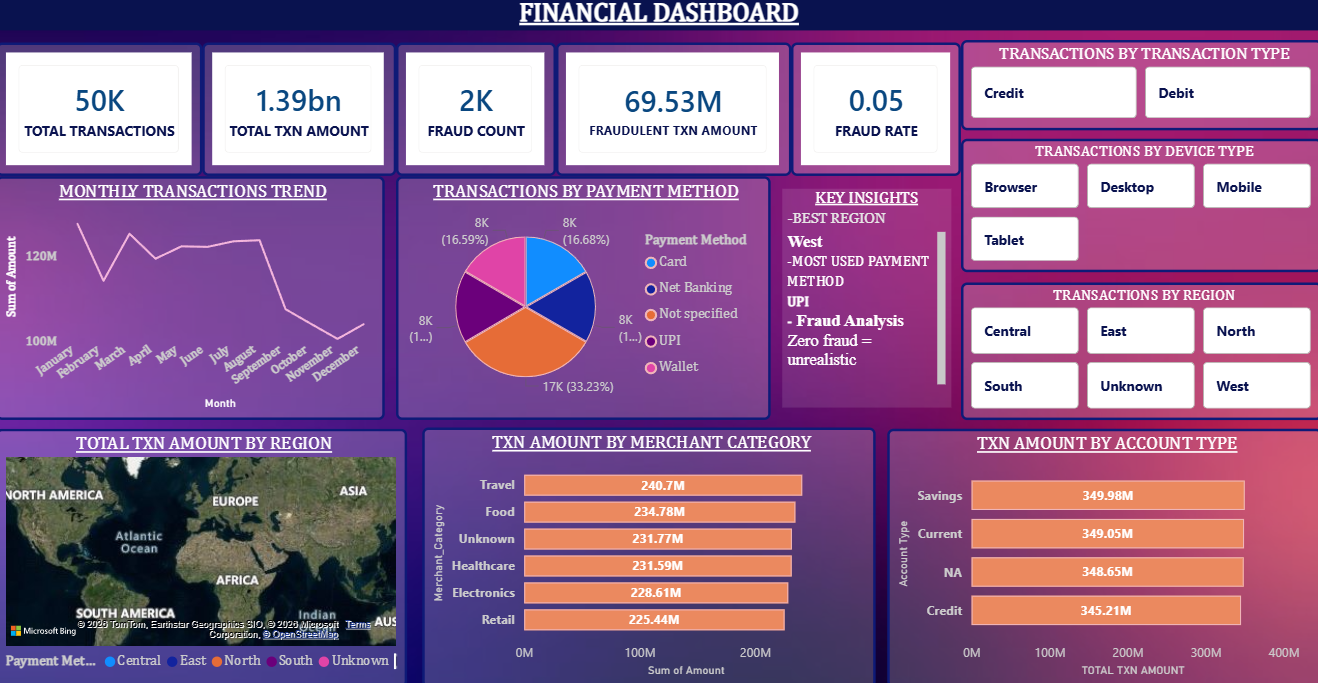

What the dashboard file says about the page in this screenshot:
{"tool":"powerbi","page":{"name":"Page 1","canvas":[1280,720],"ordinal":0},"visuals":[{"type":"textbox","title":"FINANCIAL DASHBOARD","box":[0,8.8,1280,31.2],"z":0},{"type":"lineChart","title":"MONTHLY TRANSACTIONS TREND","fields":{"Category":["Sheet1.Transaction_Date.Variation.Date Hierarchy.Month"],"Y":["Sum(Sheet1.Amount)"]},"box":[0,179.8,375.2,235.3],"z":1000},{"type":"pieChart","title":"TRANSACTIONS BY PAYMENT METHOD","fields":{"Y":["Sheet1.TOTAL TRANSACTIONS"],"Series":["Sheet1.Payment Method"]},"box":[386.1,179.8,361.9,235.3],"z":2000},{"type":"map","title":"TOTAL TXN AMOUNT BY REGION","fields":{"Size":["Sheet1.TOTAL TXN AMOUNT"],"Series":["Sheet1.Region"]},"box":[0,423.5,396.9,249.7],"z":3000},{"type":"barChart","title":"TXN AMOUNT BY ACCOUNT TYPE","fields":{"Y":["Sheet1.TOTAL TXN AMOUNT"],"Category":["Sheet1.Account Type"]},"box":[860.2,423.5,419.8,249.7],"z":4000},{"type":"advancedSlicerVisual","title":"TRANSACTIONS BY REGION","fields":{"Values":["Sheet1.Region"]},"box":[931.4,282.3,348.7,132.7],"z":5000},{"type":"advancedSlicerVisual","title":"TRANSACTIONS BY TRANSACTION TYPE","fields":{"Values":["Sheet1.Transaction_Type"]},"box":[931.4,48.3,348.7,86.9],"z":6000},{"type":"advancedSlicerVisual","title":"TRANSACTIONS BY DEVICE TYPE","fields":{"Values":["Sheet1.Device_type"]},"box":[931.4,143.6,348.7,129.1],"z":7000},{"type":"barChart","title":"TXN AMOUNT BY MERCHANT CATEGORY ","fields":{"Category":["Sheet1.Merchant_Category"],"Y":["Sum(Sheet1.Amount)"]},"box":[411.4,422.3,437.9,250.9],"z":8000},{"type":"textbox","title":"KEY INSIGHTS","box":[758.9,191.8,162.9,211.1],"z":9000},{"type":"cardVisual","title":"TRANSACTIONS BY PAYMENT METHOD","fields":{"Data":["Sheet1.TOTAL TRANSACTIONS"]},"box":[0,50.7,199.1,129.1],"z":10000},{"type":"cardVisual","title":"TRANSACTIONS BY PAYMENT METHOD","fields":{"Data":["Sheet1.TOTAL TXN AMOUNT"]},"box":[199.1,50.7,187,129.1],"z":11000},{"type":"cardVisual","title":"TRANSACTIONS BY PAYMENT METHOD","fields":{"Data":["Sheet1.FRAUD COUNT"]},"box":[386.1,50.7,154.4,129.1],"z":12000},{"type":"cardVisual","title":"TRANSACTIONS BY PAYMENT METHOD","fields":{"Data":["Sheet1.FRAUDULENT TRANSACTION AMOUNT"]},"box":[540.5,50.7,226.8,129.1],"z":13000},{"type":"cardVisual","title":"TRANSACTIONS BY PAYMENT METHOD","fields":{"Data":["Sheet1.FRAUD RATE"]},"box":[767.3,50.7,164.1,129.1],"z":14000}]}

Visuals, with their boxes on the page's 1280x720 design canvas (x1, y1, x2, y2). These are canvas units, not pixel positions in the 1318x683 screenshot, which may show the page scaled, cropped or inside an application window:
"FINANCIAL DASHBOARD" textbox: <region>0, 9, 1280, 40</region>
"MONTHLY TRANSACTIONS TREND" lineChart: <region>0, 180, 375, 415</region>
"TRANSACTIONS BY PAYMENT METHOD" pieChart: <region>386, 180, 748, 415</region>
"TOTAL TXN AMOUNT BY REGION" map: <region>0, 424, 397, 673</region>
"TXN AMOUNT BY ACCOUNT TYPE" barChart: <region>860, 424, 1280, 673</region>
"TRANSACTIONS BY REGION" advancedSlicerVisual: <region>931, 282, 1280, 415</region>
"TRANSACTIONS BY TRANSACTION TYPE" advancedSlicerVisual: <region>931, 48, 1280, 135</region>
"TRANSACTIONS BY DEVICE TYPE" advancedSlicerVisual: <region>931, 144, 1280, 273</region>
"TXN AMOUNT BY MERCHANT CATEGORY " barChart: <region>411, 422, 849, 673</region>
"KEY INSIGHTS" textbox: <region>759, 192, 922, 403</region>
"TRANSACTIONS BY PAYMENT METHOD" cardVisual: <region>0, 51, 199, 180</region>
"TRANSACTIONS BY PAYMENT METHOD" cardVisual: <region>199, 51, 386, 180</region>
"TRANSACTIONS BY PAYMENT METHOD" cardVisual: <region>386, 51, 540, 180</region>
"TRANSACTIONS BY PAYMENT METHOD" cardVisual: <region>540, 51, 767, 180</region>
"TRANSACTIONS BY PAYMENT METHOD" cardVisual: <region>767, 51, 931, 180</region>
